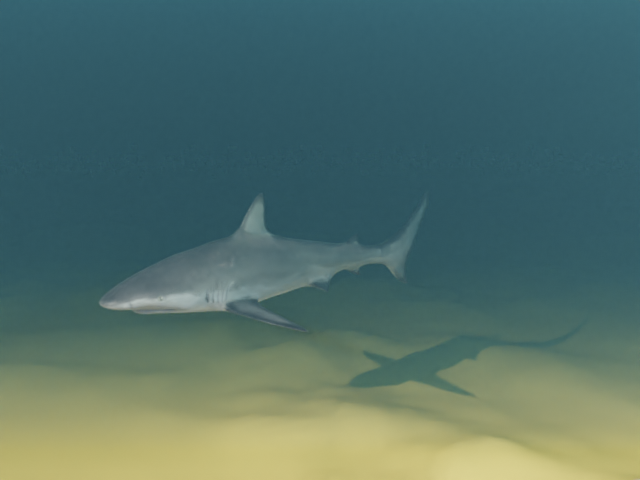Carribean Shark.001: (99, 190, 429, 331)
